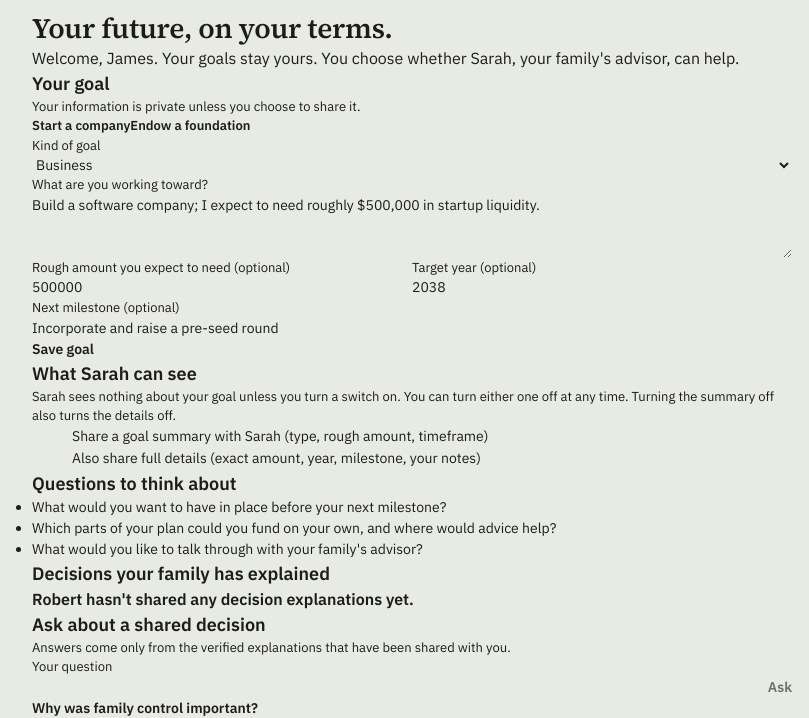
Test case: GoalCheckIn › the example buttons fill the form, and saving sends the example's timeframe too
Click the button "Endow a foundation". click: (190, 126)
box: 130,116 -> 250,136
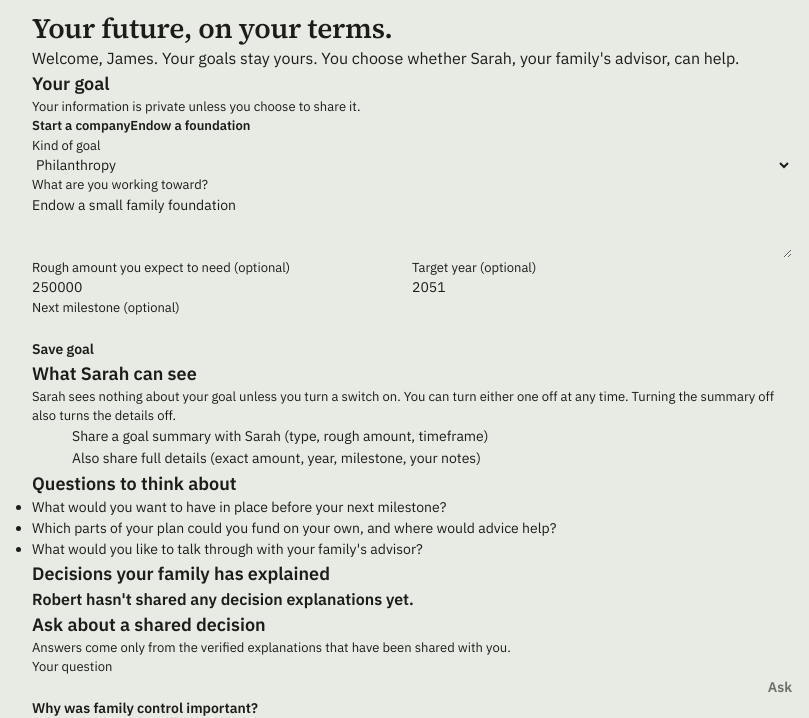
Now the dropdown labelled "Kind of goal" shows "Philanthropy", box 32,155 -> 792,175
Now the text box labelled "What are you working toward?" holds "Endow a small family foundation", box 32,195 -> 792,258
Now the number field labelled "Rough amount you expect to need (optional)" holds "250000", box 32,277 -> 412,298
Click the button "Save goal". click: (63, 349)
box: 32,339 -> 94,360
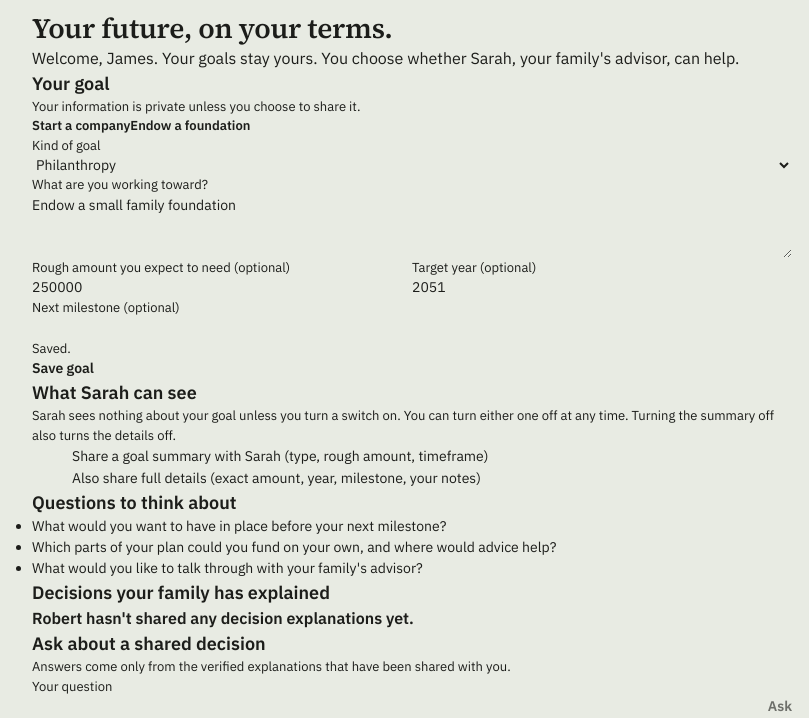
Click the button "Start a company". click: (81, 126)
box: 32,116 -> 130,136
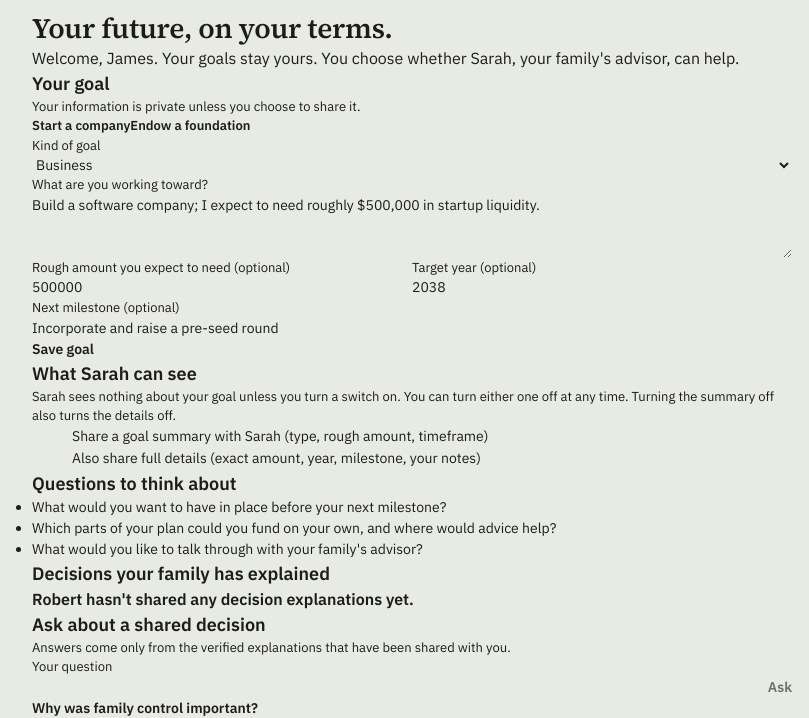
Now the dropdown labelled "Kind of goal" shows "Business", box 32,155 -> 792,175
Now the number field labelled "Target year (optional)" holds "2038", box 412,277 -> 792,298
